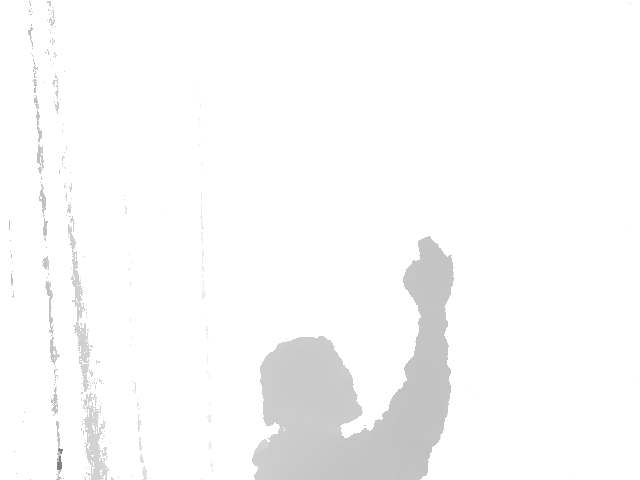hand: (395, 234, 459, 329)
head: (256, 338, 362, 437)
person: (247, 234, 460, 480)
